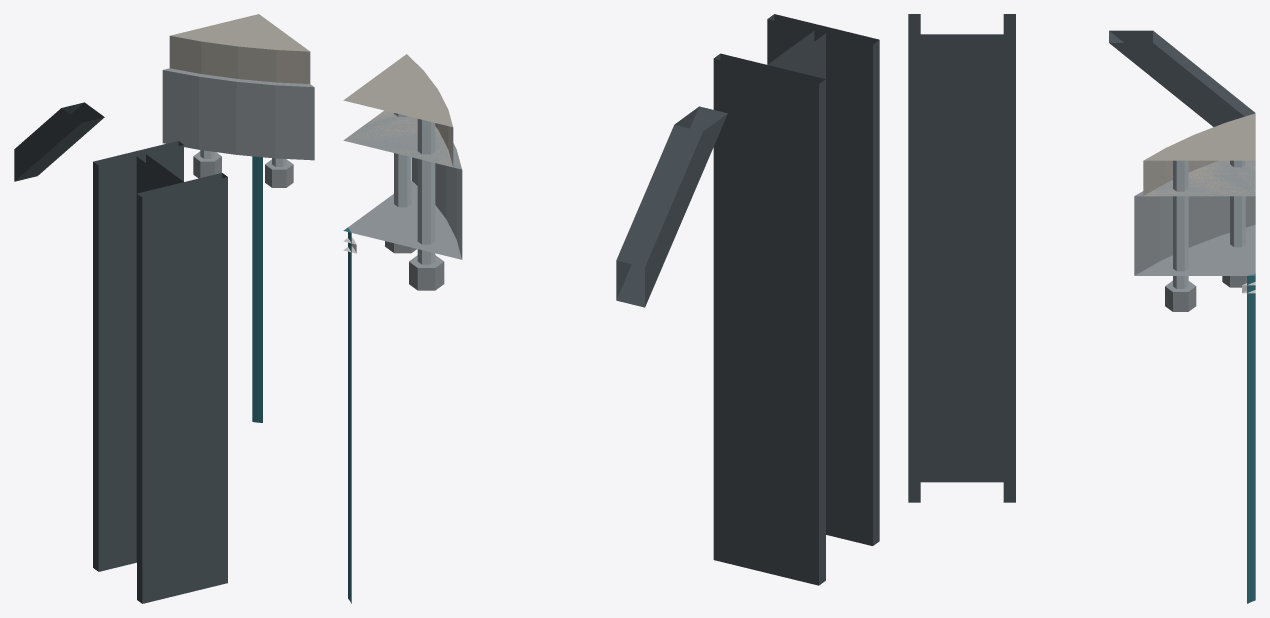
File: cell_15.obj
3 views of the same model, side by side, from view 1: azimuth 30°, elevation 25°; view 2: azimuth 150°, elevation 25°; view 3: azimuth 270°, elevation 25° (orthographic). The views are drawn at different scales.
Size of the model in its own units: 0.71 by 1 by 0.71.
